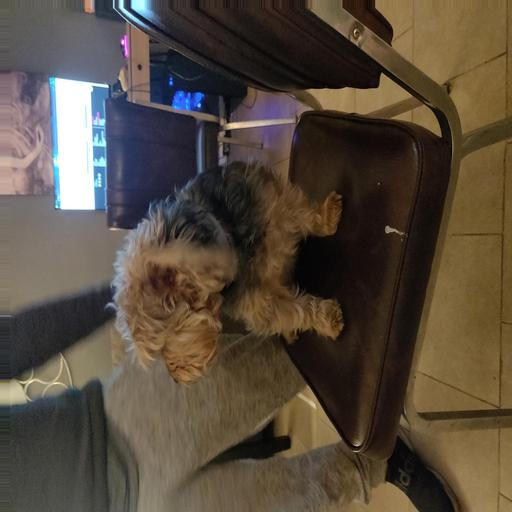dog: (112, 162, 324, 374)
